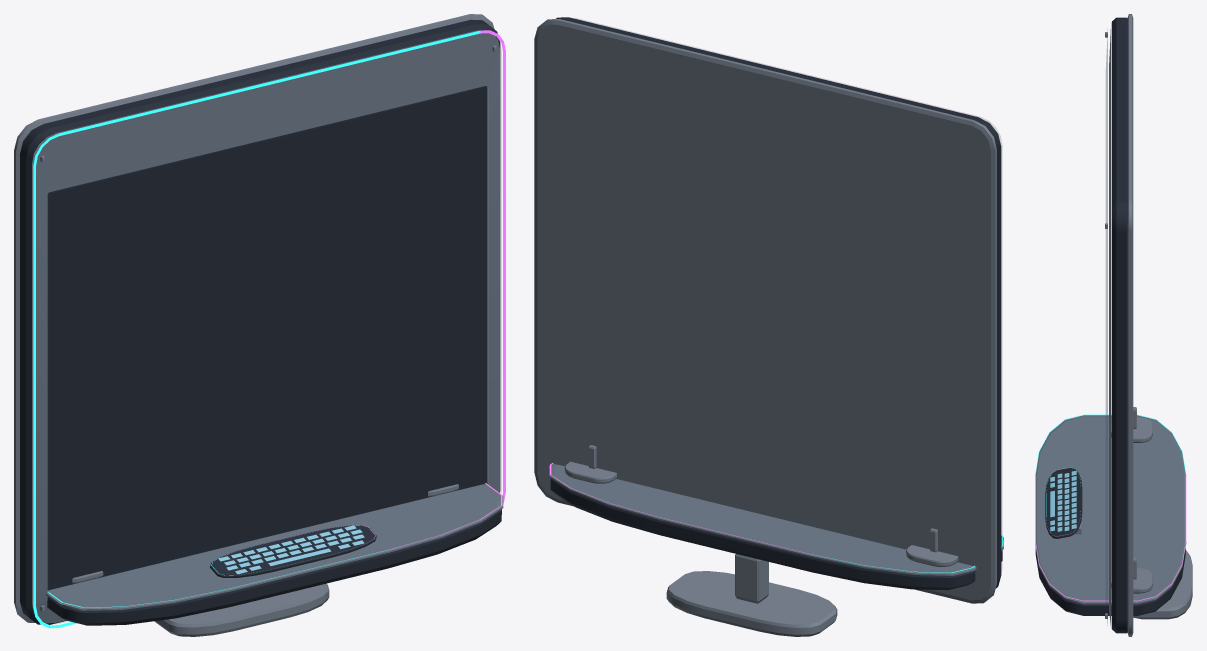
The model's file is pr801-workstation.glb.
The picture shows the model from 3 angles, left to right: view 1: azimuth 30°, elevation 25°; view 2: azimuth 150°, elevation 25°; view 3: azimuth 270°, elevation 25°; orthographic projection. The views are drawn at different scales.
Visible parts, largest first — view 1: screen-back, monitor-bezel, monitor-glass, desk-bevel, desk-glass, desk, screen-rear-bevel, monitor-rim, stand-foot, keyboard-case, keyboard-keys; view 2: screen-rear-bevel, desk-bevel, desk-glass, stand-foot, desk, screen-back, stand, side-1-foot, side--1-foot; view 3: desk-bevel, desk-glass, screen-back, screen-rear-bevel, monitor-bezel, keyboard-case, desk, stand-foot, keyboard-keys, monitor-glass, desk-rim, side-1-foot (+1 smaller).
Boxes of the visible parts, x1=… form: screen-back: x1=20, y1=19, x2=500, y2=624; monitor-bezel: x1=32, y1=30, x2=499, y2=623; monitor-glass: x1=36, y1=34, x2=501, y2=623; desk-bevel: x1=46, y1=484, x2=503, y2=610; desk-glass: x1=49, y1=484, x2=500, y2=607; desk: x1=47, y1=509, x2=501, y2=625; screen-rear-bevel: x1=14, y1=14, x2=494, y2=622; monitor-rim: x1=33, y1=30, x2=505, y2=628; stand-foot: x1=155, y1=583, x2=329, y2=636; keyboard-case: x1=210, y1=525, x2=376, y2=577; keyboard-keys: x1=218, y1=525, x2=364, y2=574; screen-rear-bevel: x1=534, y1=19, x2=996, y2=603; desk-bevel: x1=549, y1=464, x2=1003, y2=575; desk-glass: x1=552, y1=464, x2=972, y2=572; stand-foot: x1=666, y1=571, x2=837, y2=636; desk: x1=550, y1=478, x2=1002, y2=590; screen-back: x1=556, y1=17, x2=1001, y2=588; stand: x1=735, y1=554, x2=768, y2=603; side-1-foot: x1=564, y1=461, x2=616, y2=483; side--1-foot: x1=906, y1=545, x2=958, y2=566; desk-bevel: x1=1035, y1=415, x2=1186, y2=604; desk-glass: x1=1036, y1=415, x2=1184, y2=599; screen-back: x1=1112, y1=17, x2=1127, y2=633; screen-rear-bevel: x1=1127, y1=14, x2=1133, y2=636; monitor-bezel: x1=1109, y1=22, x2=1111, y2=628; keyboard-case: x1=1045, y1=468, x2=1082, y2=538; desk: x1=1035, y1=548, x2=1185, y2=615; stand-foot: x1=1133, y1=550, x2=1192, y2=619; keyboard-keys: x1=1050, y1=470, x2=1076, y2=531; monitor-glass: x1=1106, y1=35, x2=1107, y2=623; desk-rim: x1=1035, y1=414, x2=1186, y2=601; side-1-foot: x1=1111, y1=568, x2=1152, y2=593.
Bounding box in the file's own units: 1.03 × 1.13 × 0.336.
